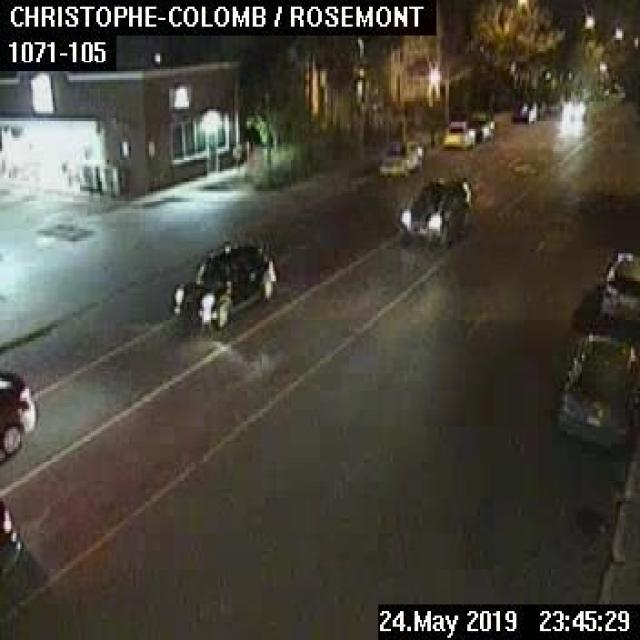vehicle: (555, 334, 638, 451), (169, 242, 276, 331), (396, 175, 469, 249), (0, 368, 36, 464), (598, 251, 638, 323), (0, 496, 22, 578), (379, 138, 421, 174), (442, 120, 473, 146), (468, 111, 493, 141), (512, 99, 534, 123)
